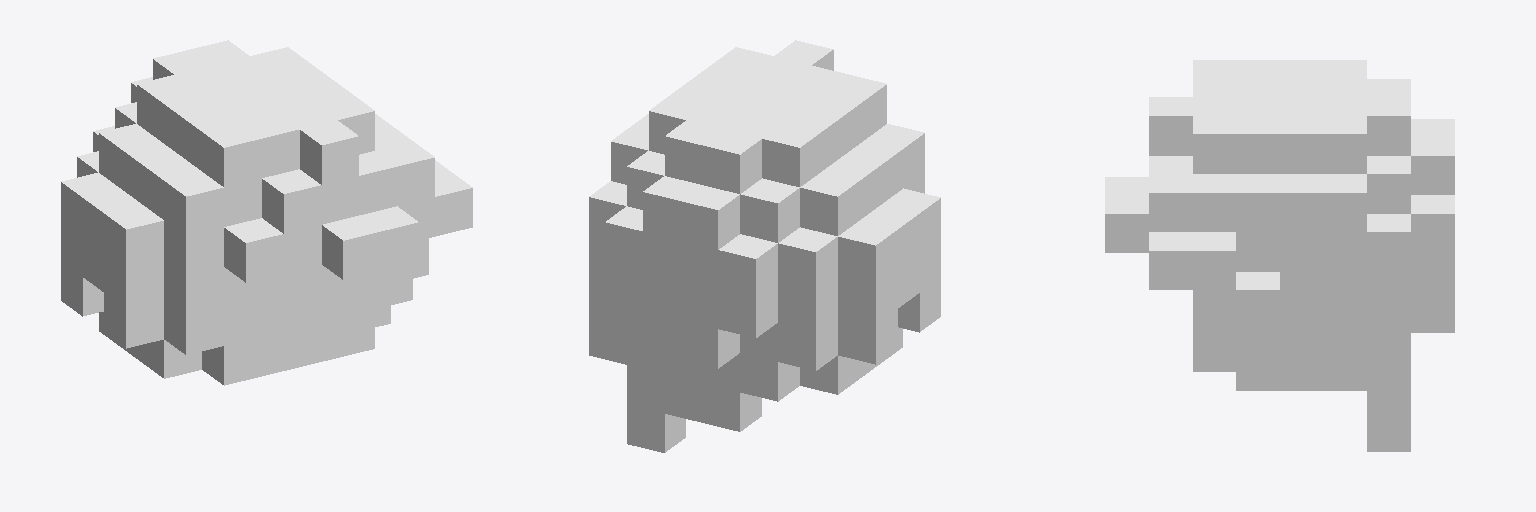
File: girlHead.obj
The picture shows the model from 3 angles: view 1: azimuth 30°, elevation 25°; view 2: azimuth 150°, elevation 25°; view 3: azimuth 270°, elevation 25°; orthographic projection.
Bounding box in the file's own units: 8 × 8 × 8.